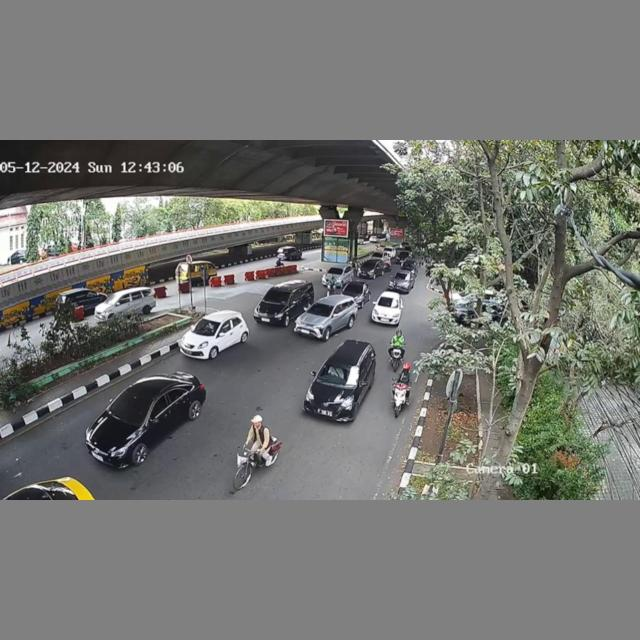windshield: (105, 391, 155, 422), (318, 360, 359, 386), (193, 317, 219, 338), (307, 301, 335, 317), (264, 288, 289, 304), (376, 296, 401, 310)
